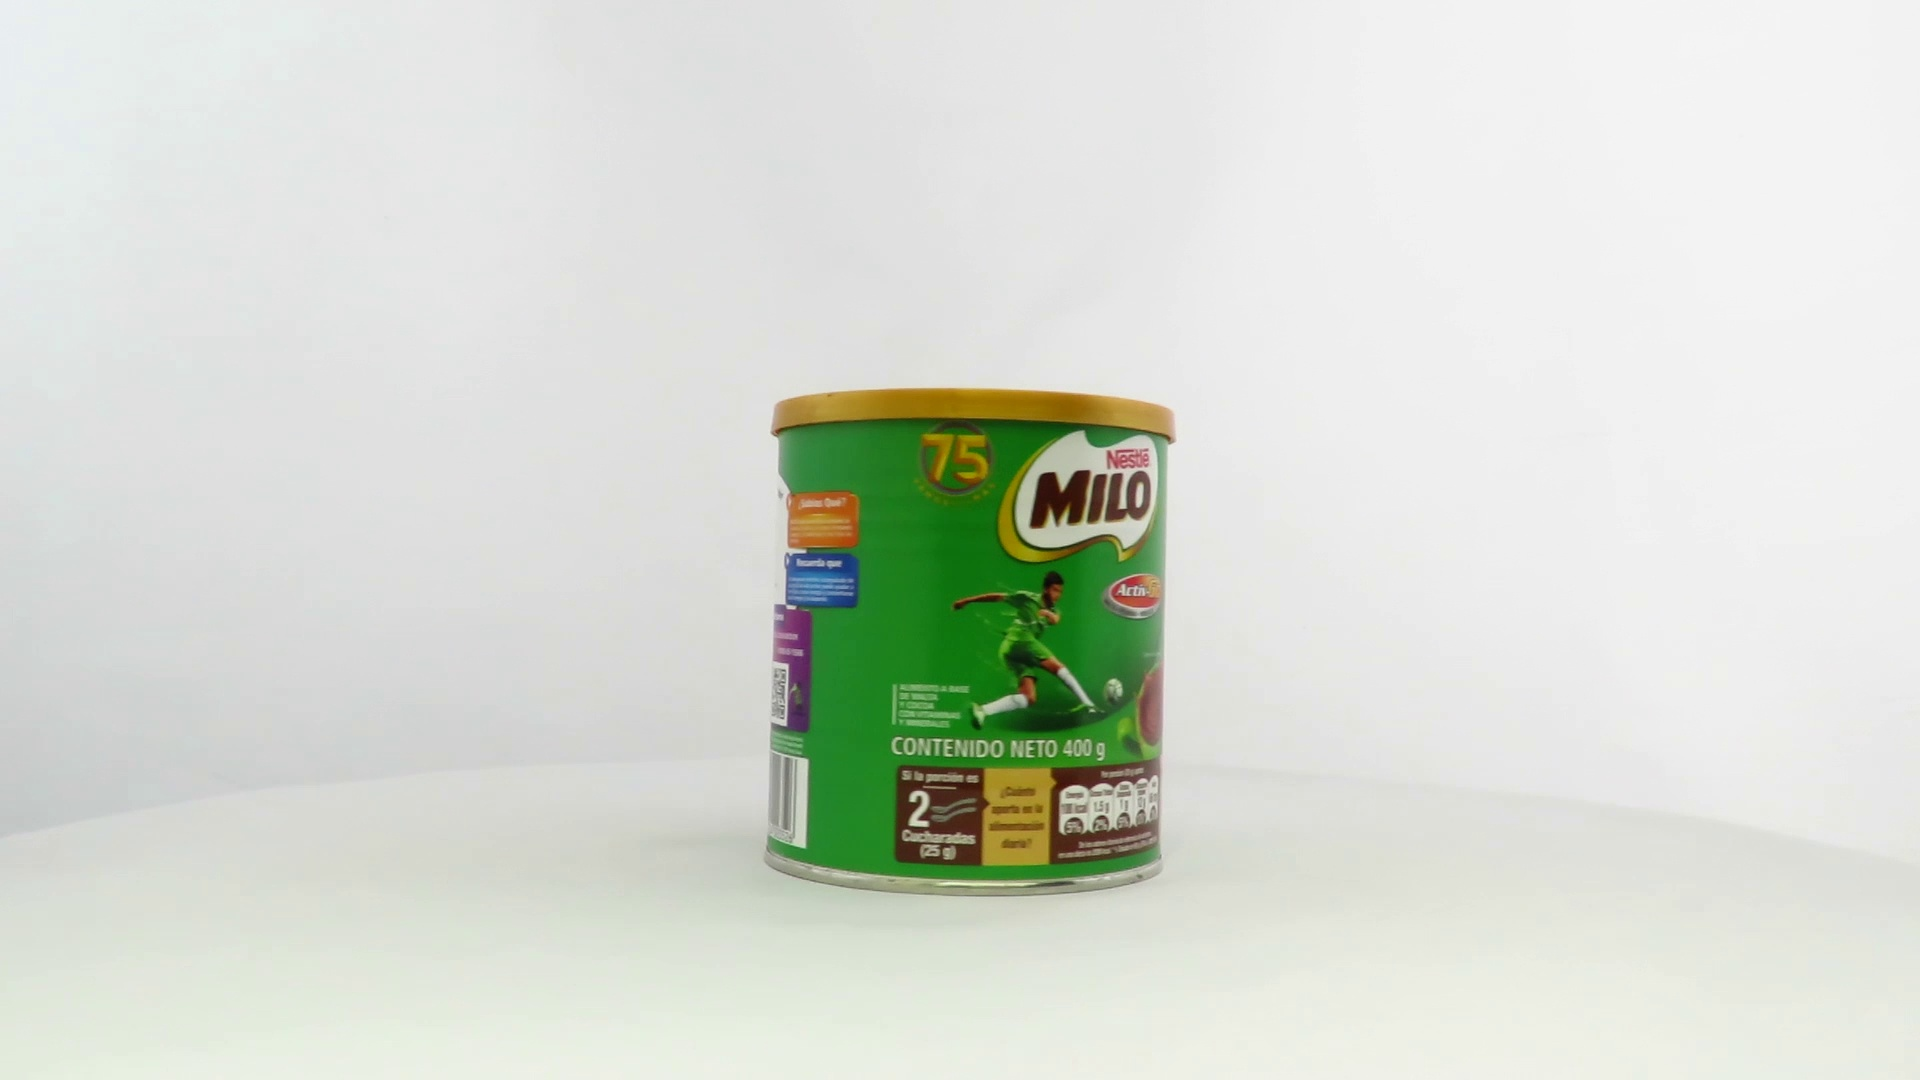COL0170203LAT40000: (758, 382, 1183, 903)
